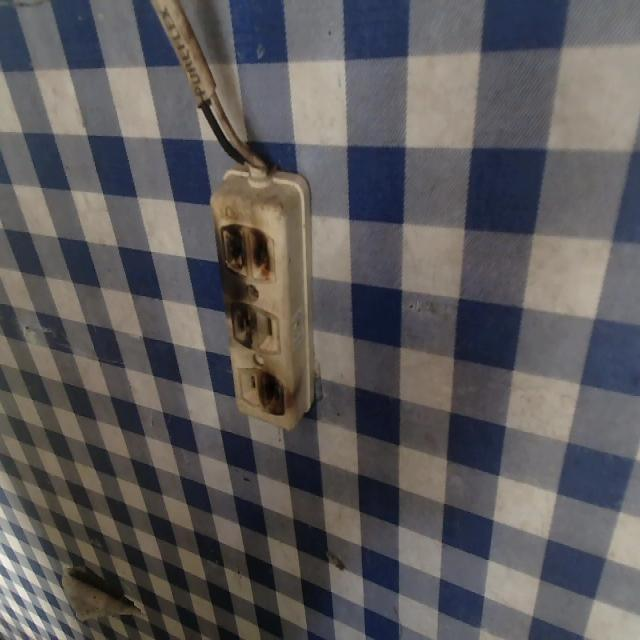-: (213, 216, 280, 284), (252, 358, 294, 426), (223, 297, 256, 352)
